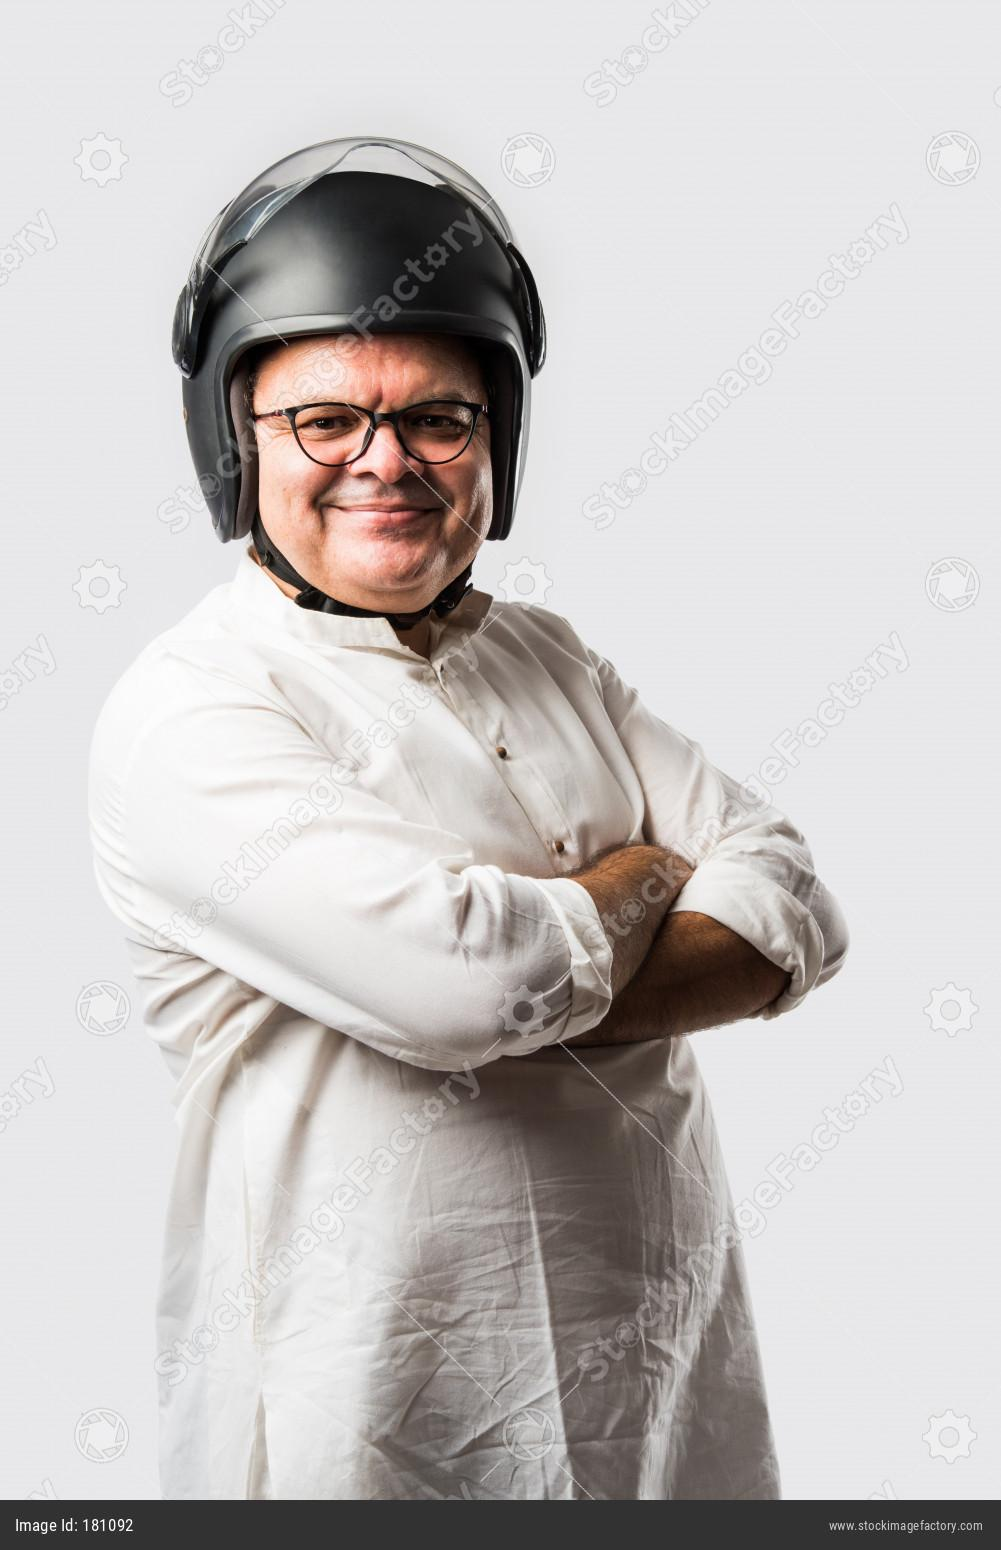Helmet: (169, 134, 548, 555)
